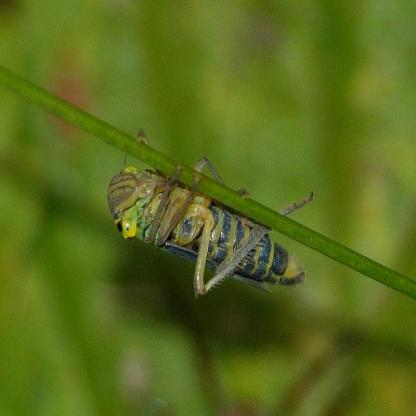Green-Leafhopper: (103, 130, 319, 304)
